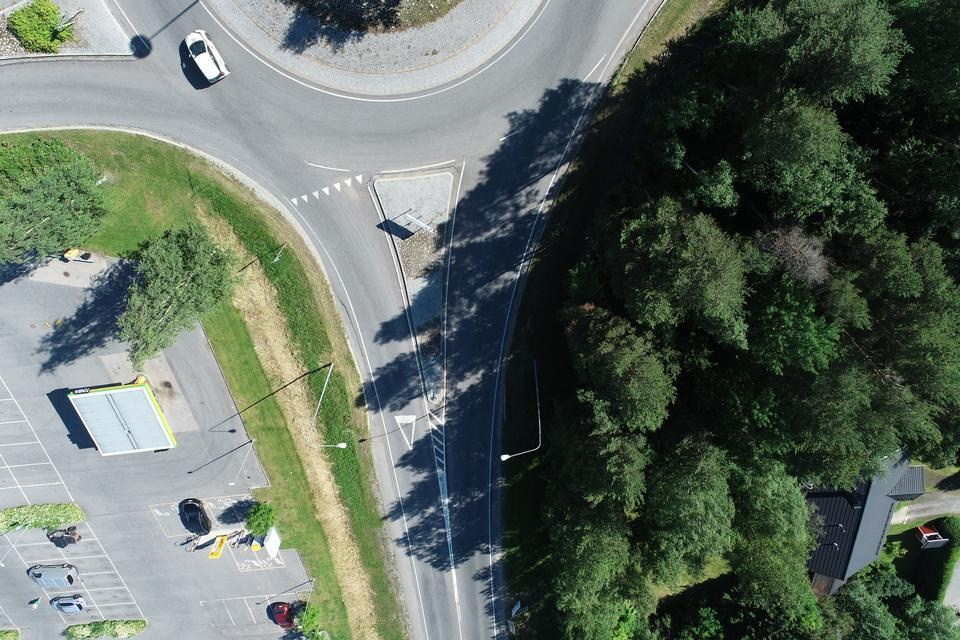roundabout: (66, 0, 715, 182)
